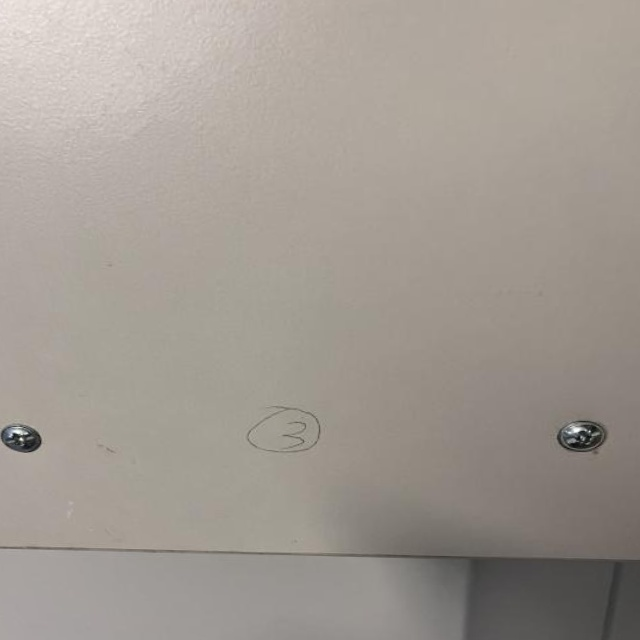pozidriv: (557, 420, 607, 453), (0, 422, 44, 453)
